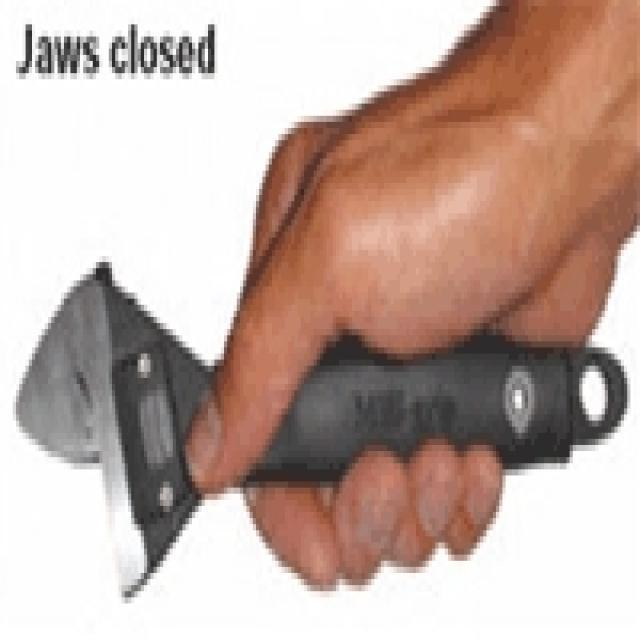wrench: (9, 260, 628, 590)
